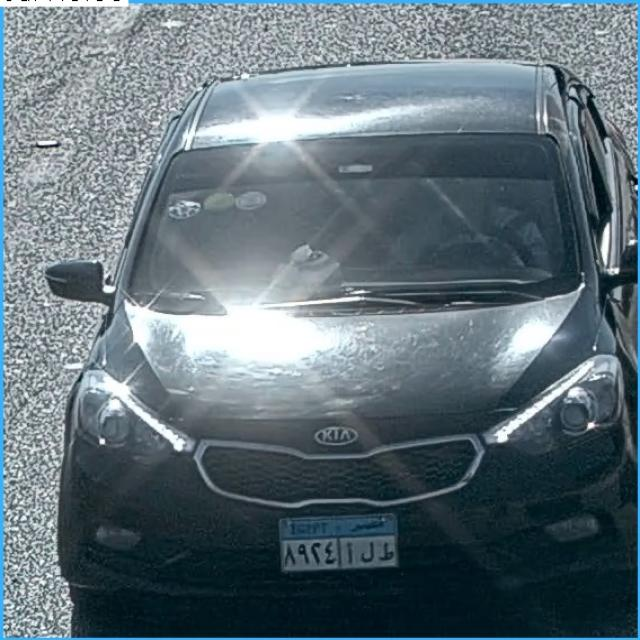windshield: (127, 149, 576, 303)
